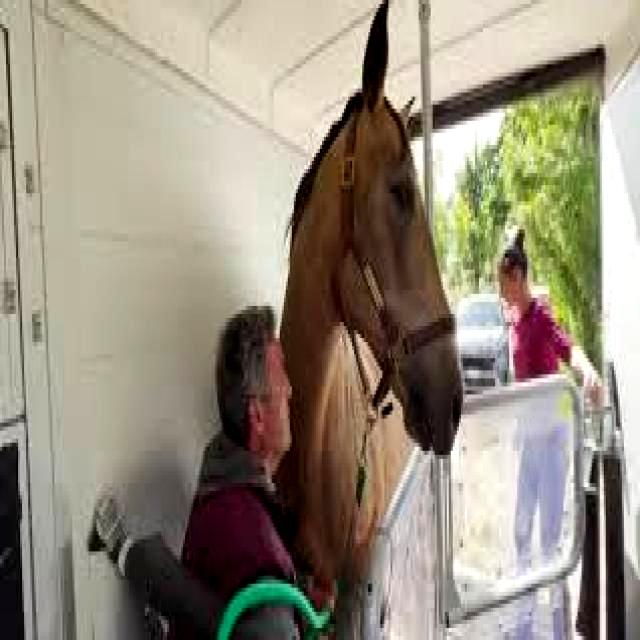civilian: (159, 303, 318, 611), (481, 231, 596, 640)
horse: (251, 0, 469, 640)
